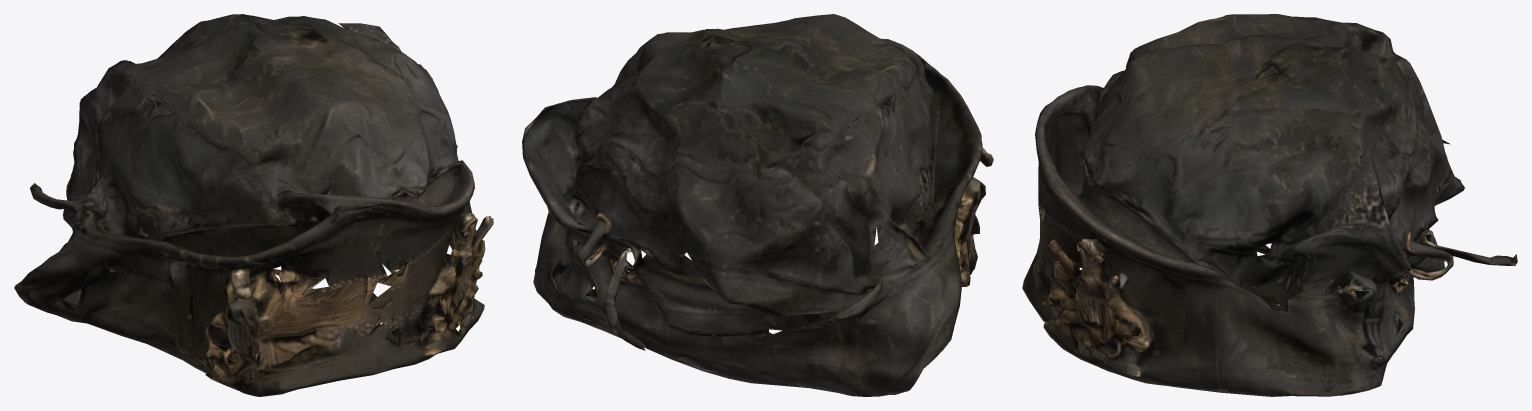
Rendered from prop_rook_souwester.glb.
3 views of the same model, side by side, from view 1: azimuth 30°, elevation 25°; view 2: azimuth 150°, elevation 25°; view 3: azimuth 270°, elevation 25° (orthographic). The views are drawn at different scales.
Size of the model in its own units: 0.3365 by 0.238 by 0.3416.
1 material, 1 textured.
